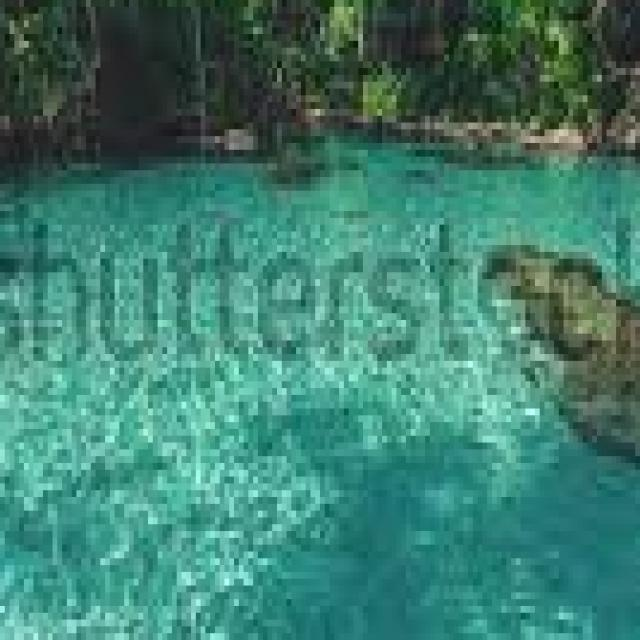-: (0, 238, 640, 640), (0, 442, 449, 640)
